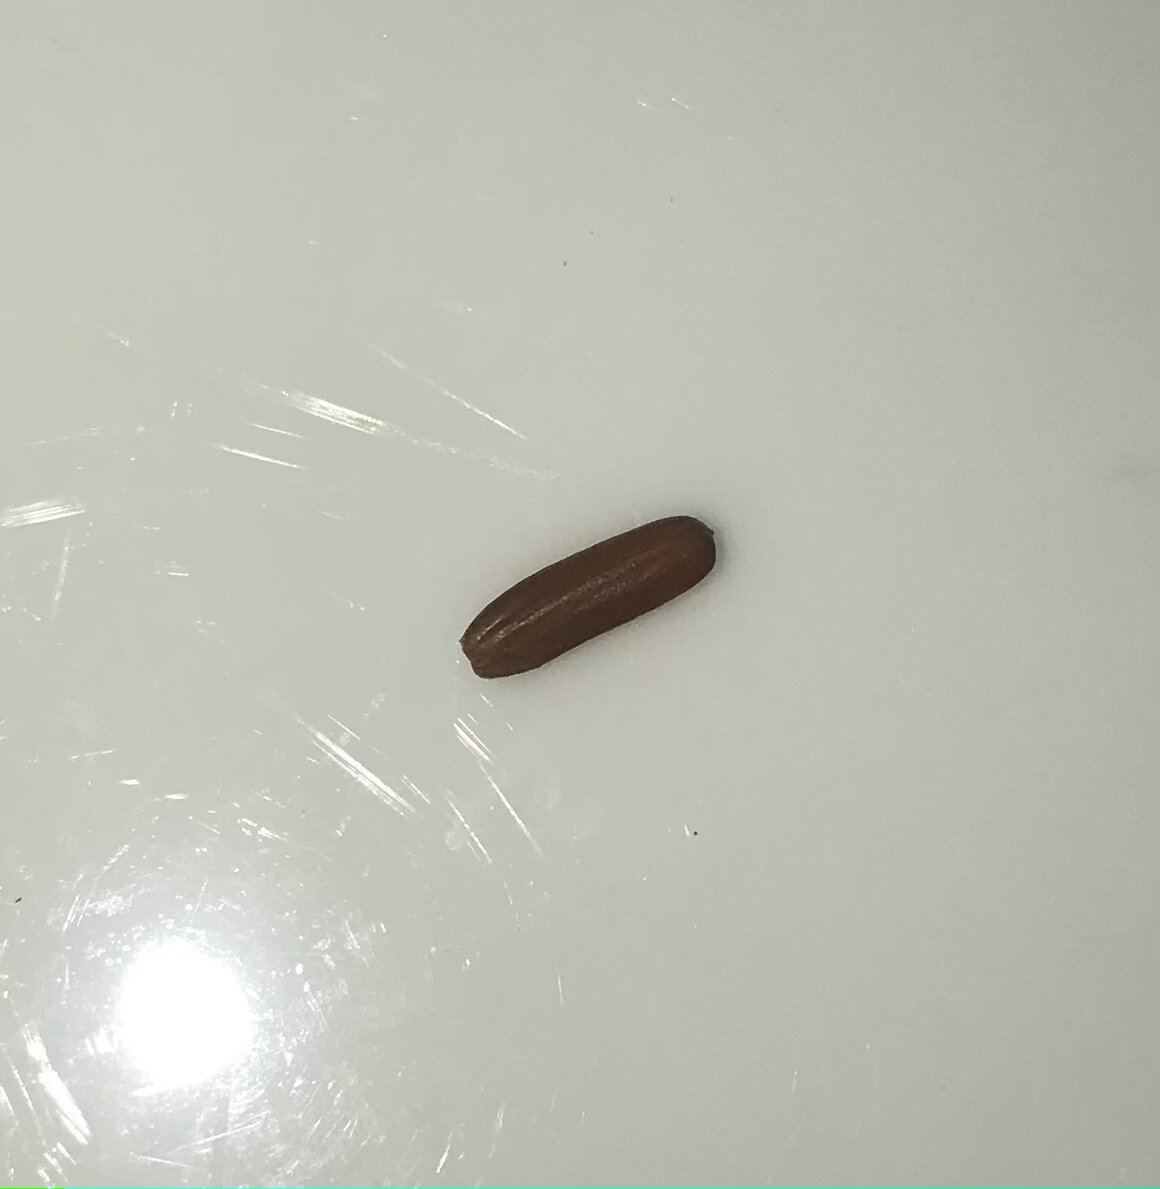Gao Huyet Rong: (450, 512, 731, 679)
